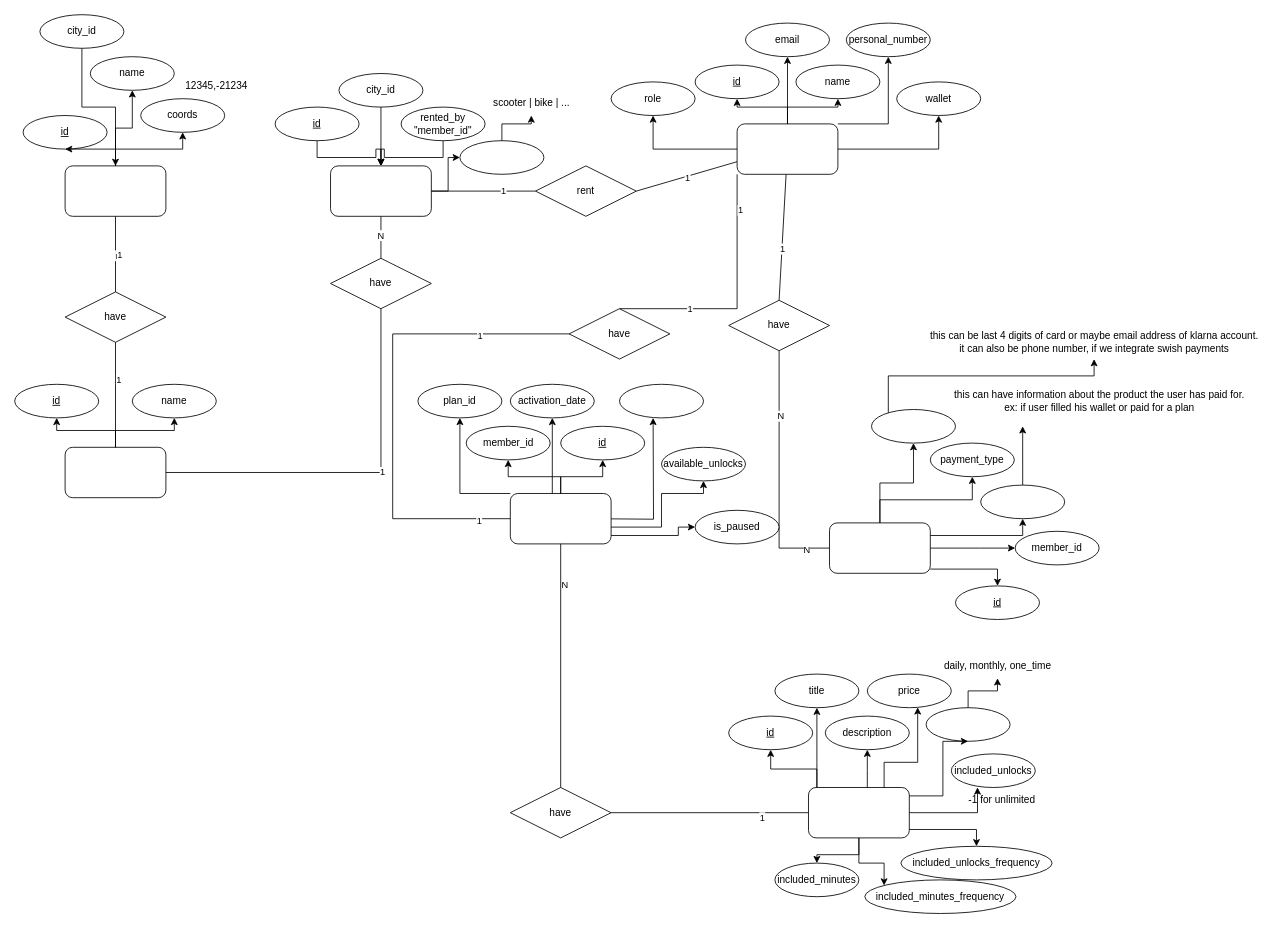
Some shapes in this 1281 by 928 pixel diagram are drawn without their labels. Here are the shapes that lost their labels. From the top down, the box of each, then its label:
(459, 140, 544, 174): type
(736, 123, 838, 174): member
(64, 165, 166, 216): renting_stations
(330, 165, 431, 216): vehicles
(619, 383, 704, 418): available_minutes
(871, 409, 956, 443): payment_details
(64, 446, 166, 498): cities
(509, 493, 611, 544): active_plans
(980, 484, 1065, 519): receipt_details
(829, 522, 930, 573): receipts
(925, 707, 1010, 741): price_frequency
(808, 787, 909, 838): plans
